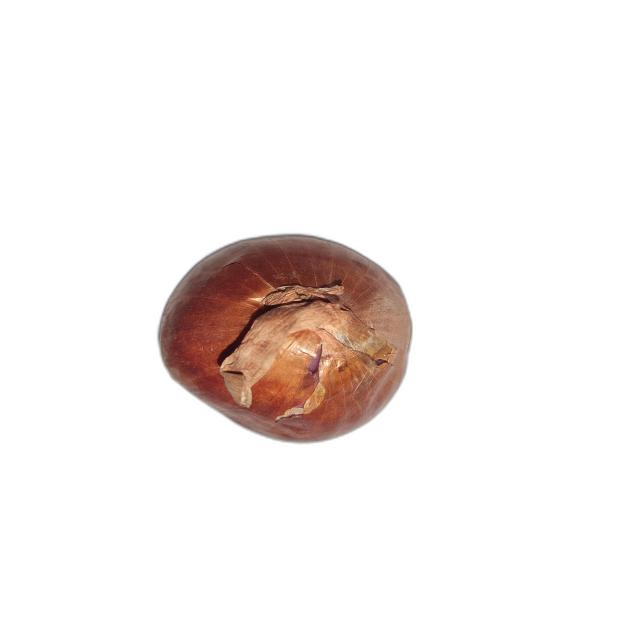onion: (155, 235, 412, 442)
